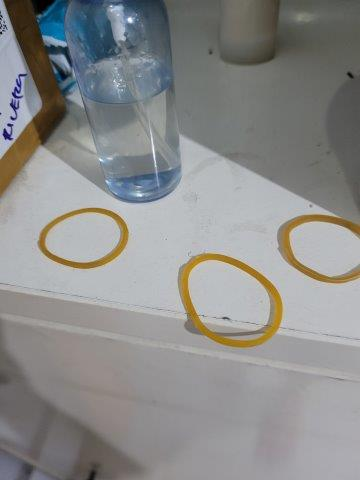karet: (180, 254, 283, 348), (39, 207, 129, 269), (281, 215, 360, 285)
